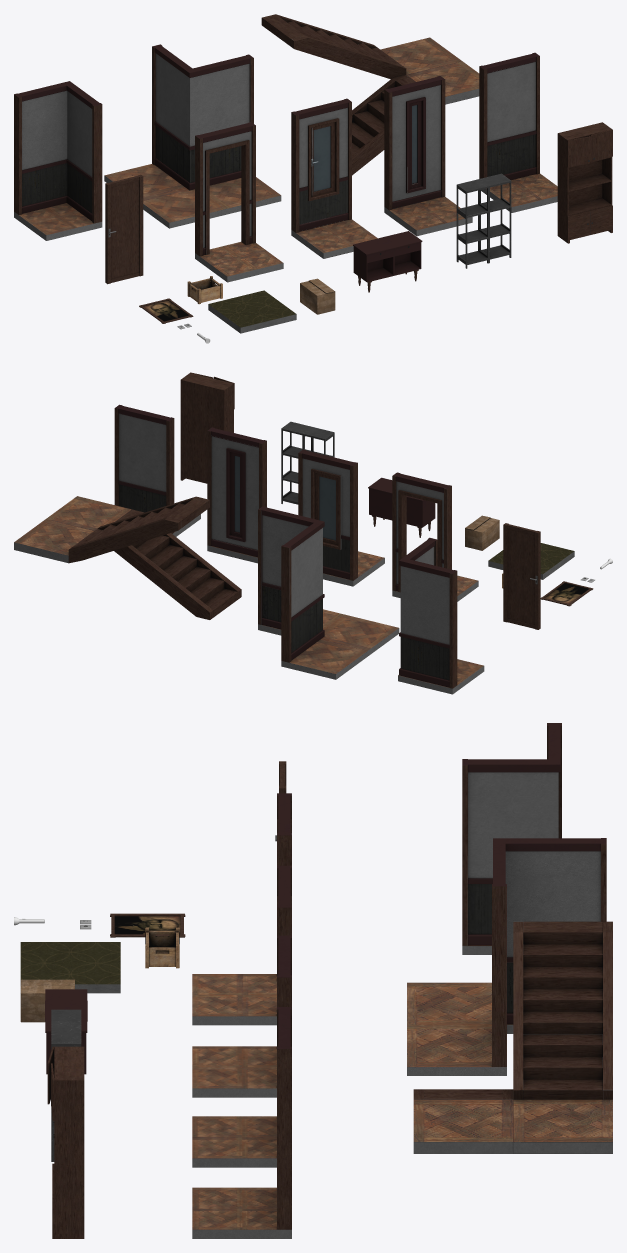
The model's file is Horror_Game_Starter_Kit.fbx.
3 renders of one model, top to bottom at view 1: azimuth 30°, elevation 25°; view 2: azimuth 150°, elevation 25°; view 3: azimuth 270°, elevation 25°, orthographic. The views are drawn at different scales.
Parts seen in each view (by area): view 1: Wall_Corner_Invert, Wal_Corner.005, Wall_Window_Colored.003, Ladder.002, Wall_Window.002, Wall_02.037, Wall_01_Door_Hole.002, Cabinet.002, Door, Metal_Cabinet.001, CabinetShort, FloorTile (+3 smaller); view 2: Wall_Corner_Invert, Ladder.002, Wal_Corner.005, Wall_Window_Colored.003, Wall_Window.002, Wall_02.037, Cabinet.002, Wall_01_Door_Hole.002, Door, CabinetShort, Metal_Cabinet.001, FloorTile (+2 smaller); view 3: Ladder.002, Wall_Corner_Invert, Wal_Corner.005, Wall_02.037, Cabinet.002, Wall_01_Door_Hole.002, Wall_Window_Colored.003, Wall_Window.002, FloorTile, Frame, CabinetShort, CarboardBox (+2 smaller).
Boxes of the visible parts, x1=… form: Wall_Corner_Invert: x1=104, y1=44, x2=281, y2=228; Wal_Corner.005: x1=14, y1=81, x2=102, y2=240; Wall_Window_Colored.003: x1=384, y1=76, x2=472, y2=236; Ladder.002: x1=261, y1=14, x2=479, y2=175; Wall_Window.002: x1=291, y1=98, x2=377, y2=258; Wall_02.037: x1=479, y1=52, x2=557, y2=212; Wall_01_Door_Hole.002: x1=195, y1=122, x2=283, y2=282; Cabinet.002: x1=557, y1=122, x2=612, y2=243; Door: x1=105, y1=174, x2=143, y2=284; Metal_Cabinet.001: x1=456, y1=173, x2=511, y2=268; CabinetShort: x1=353, y1=231, x2=422, y2=292; FloorTile: x1=208, y1=290, x2=296, y2=333; Wall_Corner_Invert: x1=258, y1=506, x2=399, y2=679; Ladder.002: x1=14, y1=496, x2=241, y2=619; Wal_Corner.005: x1=398, y1=537, x2=484, y2=694; Wall_Window_Colored.003: x1=207, y1=427, x2=266, y2=563; Wall_Window.002: x1=298, y1=449, x2=384, y2=586; Wall_02.037: x1=114, y1=404, x2=200, y2=536; Cabinet.002: x1=180, y1=372, x2=234, y2=483; Wall_01_Door_Hole.002: x1=392, y1=472, x2=478, y2=601; Door: x1=503, y1=523, x2=540, y2=629; CabinetShort: x1=368, y1=477, x2=435, y2=537; Metal_Cabinet.001: x1=281, y1=421, x2=334, y2=504; FloorTile: x1=488, y1=543, x2=574, y2=579; Ladder.002: x1=413, y1=921, x2=612, y2=1153; Wall_Corner_Invert: x1=407, y1=838, x2=606, y2=1075; Wal_Corner.005: x1=462, y1=723, x2=561, y2=954; Wall_02.037: x1=192, y1=1007, x2=291, y2=1238; Cabinet.002: x1=47, y1=1046, x2=84, y2=1238; Wall_01_Door_Hole.002: x1=192, y1=793, x2=291, y2=1025; Wall_Window_Colored.003: x1=192, y1=935, x2=291, y2=1167; Wall_Window.002: x1=192, y1=865, x2=291, y2=1097; FloorTile: x1=20, y1=942, x2=120, y2=993; Frame: x1=110, y1=913, x2=185, y2=937; CabinetShort: x1=45, y1=989, x2=87, y2=1074; CarboardBox: x1=20, y1=979, x2=74, y2=1022.
Size of the model in its own units: 1547 by 420 by 1201.
